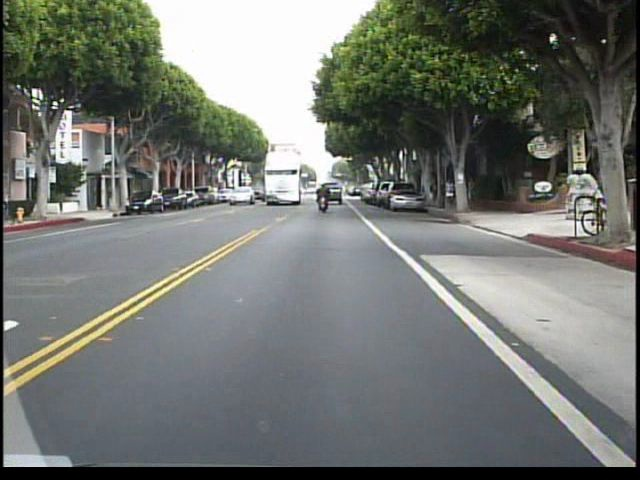person: (314, 178, 333, 221), (443, 174, 455, 209), (467, 175, 479, 208), (458, 173, 468, 208)
